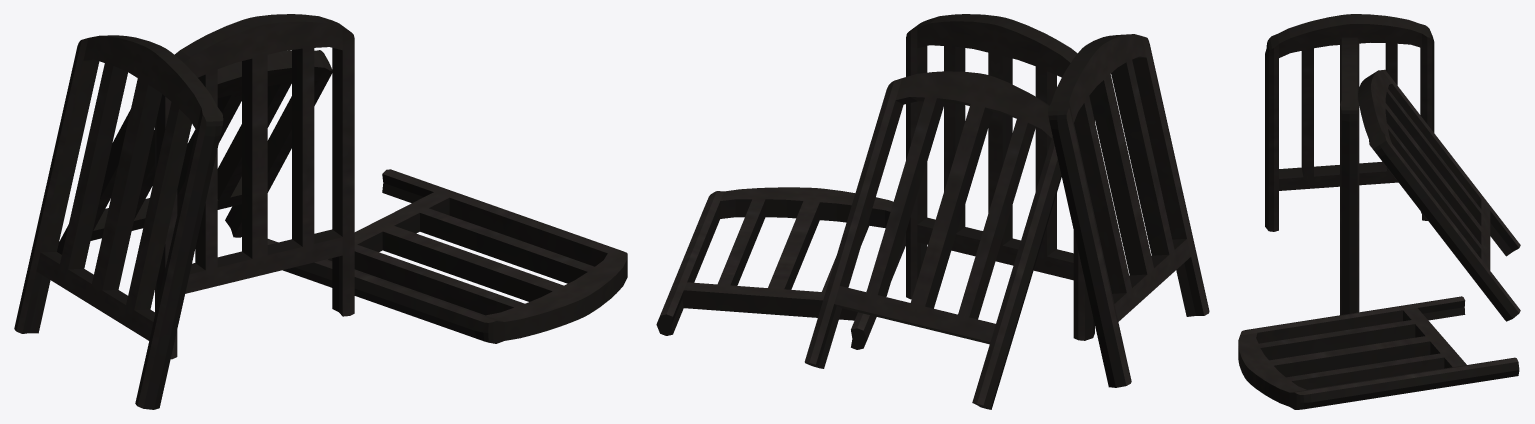
Rendered from VallasAcumuladas2.fbx.
3 views of the same model, side by side, from view 1: azimuth 30°, elevation 25°; view 2: azimuth 150°, elevation 25°; view 3: azimuth 270°, elevation 25° (orthographic). The views are drawn at different scales.
Parts seen in each view (by area): view 1: VallaAcumulada2; view 2: VallaAcumulada2; view 3: VallaAcumulada2.
Part boxes in pixels (<box>): VallaAcumulada2: <box>14,14,627,409</box>; VallaAcumulada2: <box>656,14,1209,409</box>; VallaAcumulada2: <box>1238,14,1520,409</box>.
Size of the model in its own units: 414 by 235 by 255.
Materials: 1 (1 with a texture image).
